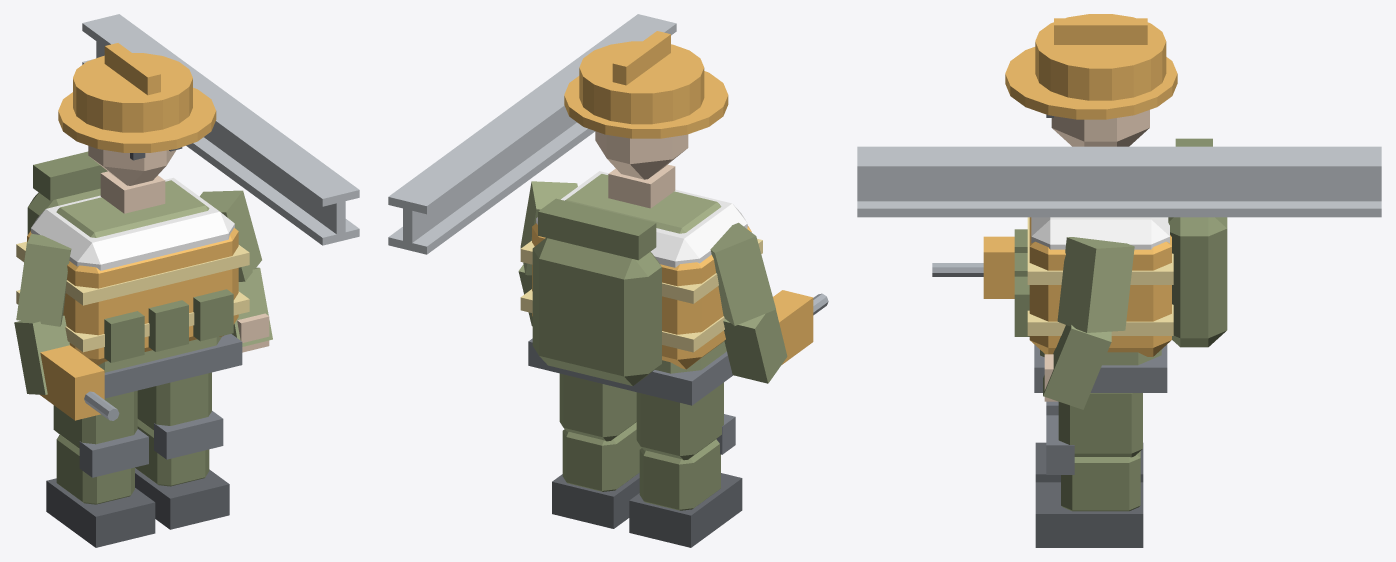
Rendered from builder.glb.
3 views of the same model, side by side, from view 1: azimuth 30°, elevation 25°; view 2: azimuth 150°, elevation 25°; view 3: azimuth 270°, elevation 25° (orthographic). The views are drawn at different scales.
Parts seen in each view (by area): view 1: main, shinl, shinr, legr, legl; view 2: main, shinl, shinr, legl, legr; view 3: main, shinr, legr, shinl.
Part boxes in pixels (bbox=[...]): main: bbox=[14, 14, 359, 420]; shinl: bbox=[46, 429, 155, 547]; shinr: bbox=[135, 411, 229, 529]; legr: bbox=[137, 372, 211, 430]; legl: bbox=[53, 390, 137, 448]; main: bbox=[388, 14, 828, 405]; shinl: bbox=[629, 414, 742, 547]; shinr: bbox=[552, 422, 641, 528]; legl: bbox=[636, 382, 723, 460]; legr: bbox=[559, 373, 636, 441]; main: bbox=[857, 14, 1381, 409]; shinr: bbox=[1035, 415, 1143, 547]; legr: bbox=[1058, 393, 1142, 457]; shinl: bbox=[1035, 401, 1143, 482].
Size of the model in its own units: 0.331 by 0.578 by 0.56.
